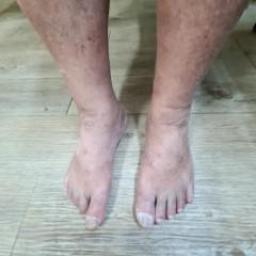Dorsal View -Both Feet-: (40, 74, 221, 241)
